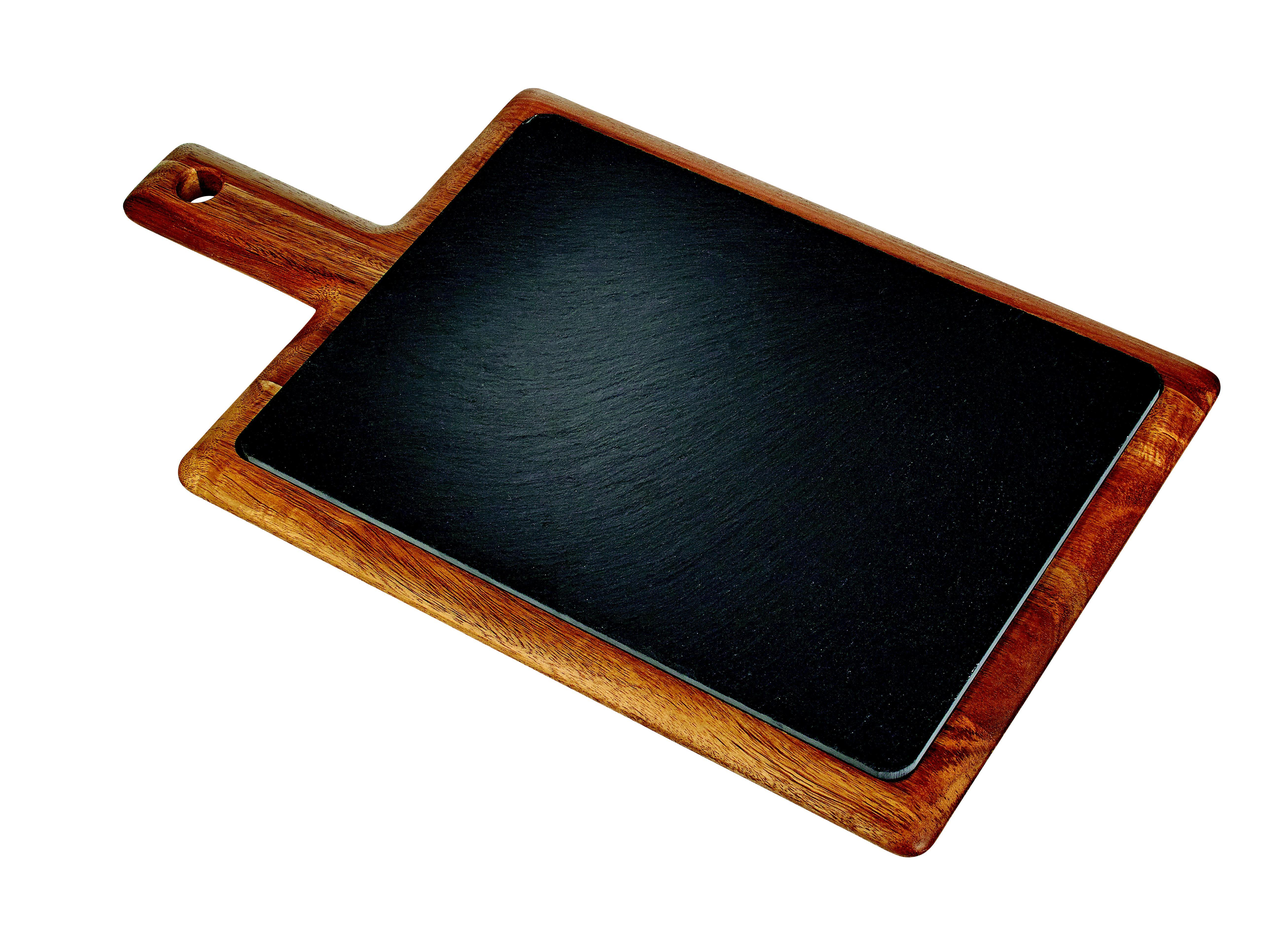gloved_hand: (99, 79, 1237, 866)
